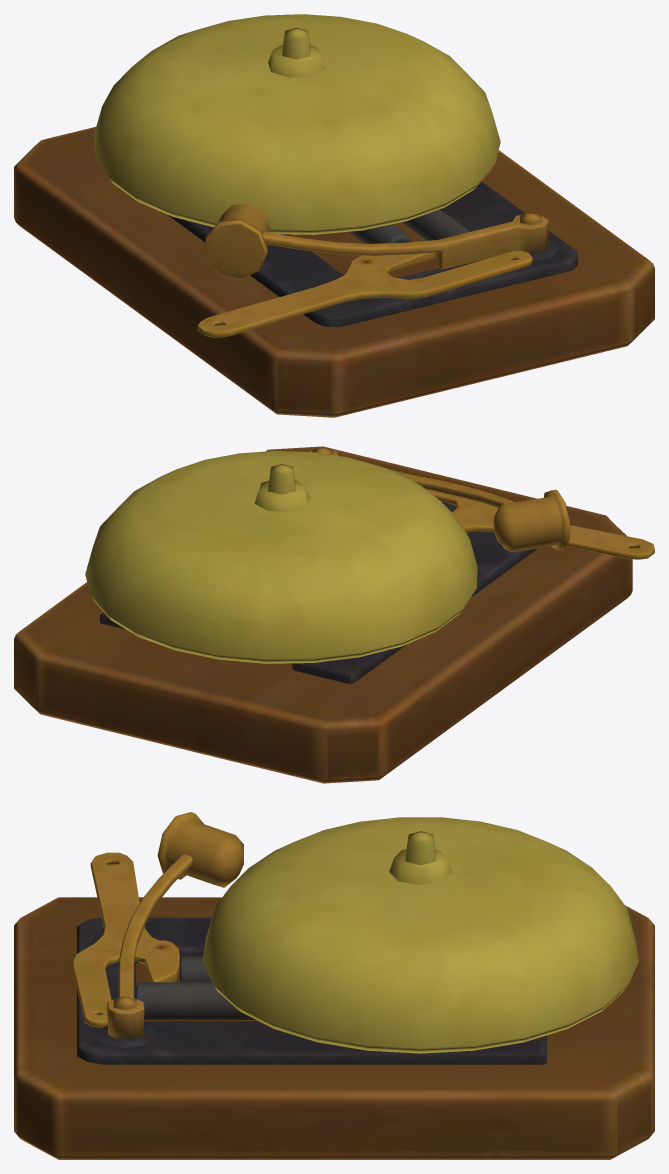
3 renders of one model, top to bottom at view 1: azimuth 30°, elevation 25°; view 2: azimuth 150°, elevation 25°; view 3: azimuth 270°, elevation 25°, orthographic. The views are drawn at different scales.
Size of the model in its own units: 5.51 by 2.65 by 6.66.
Materials: 1 (1 with a texture image).
